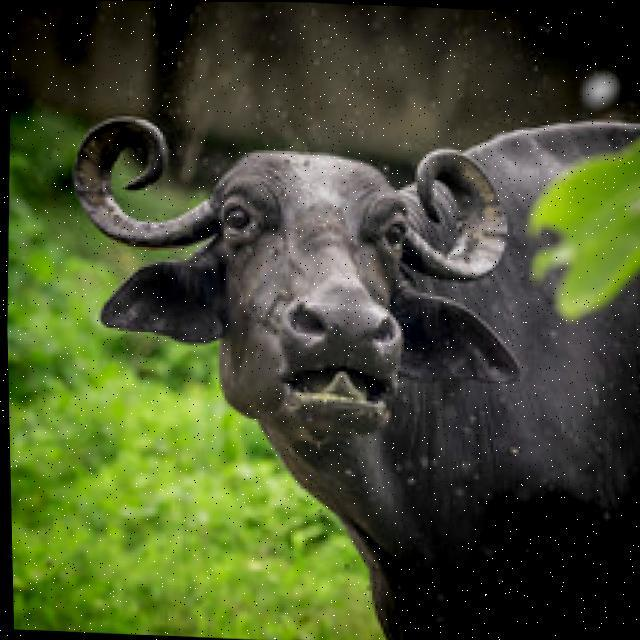Buffalo: (47, 90, 640, 640)
